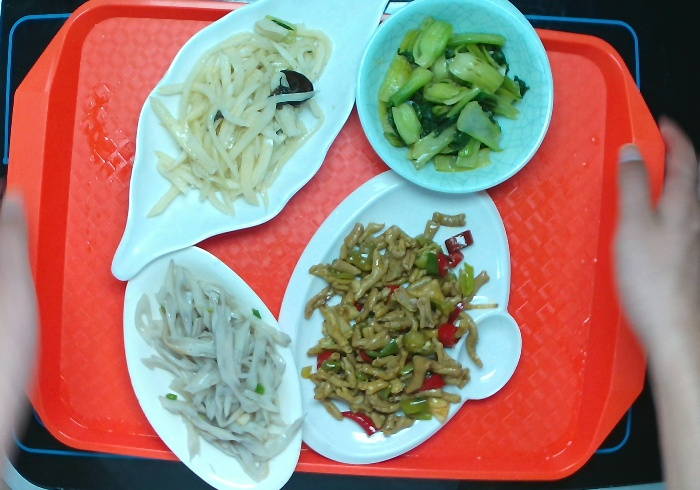RJxy-Bai_Se_Tuo_Yuan: (114, 241, 305, 487)
RJxy-Shu_Ye_Pan: (110, 1, 384, 281)
RJxy-Xiao_Jiao_Yuan_Wan: (353, 1, 561, 197)
RJxy-Zhan_Liao_Pan: (270, 165, 529, 475)
